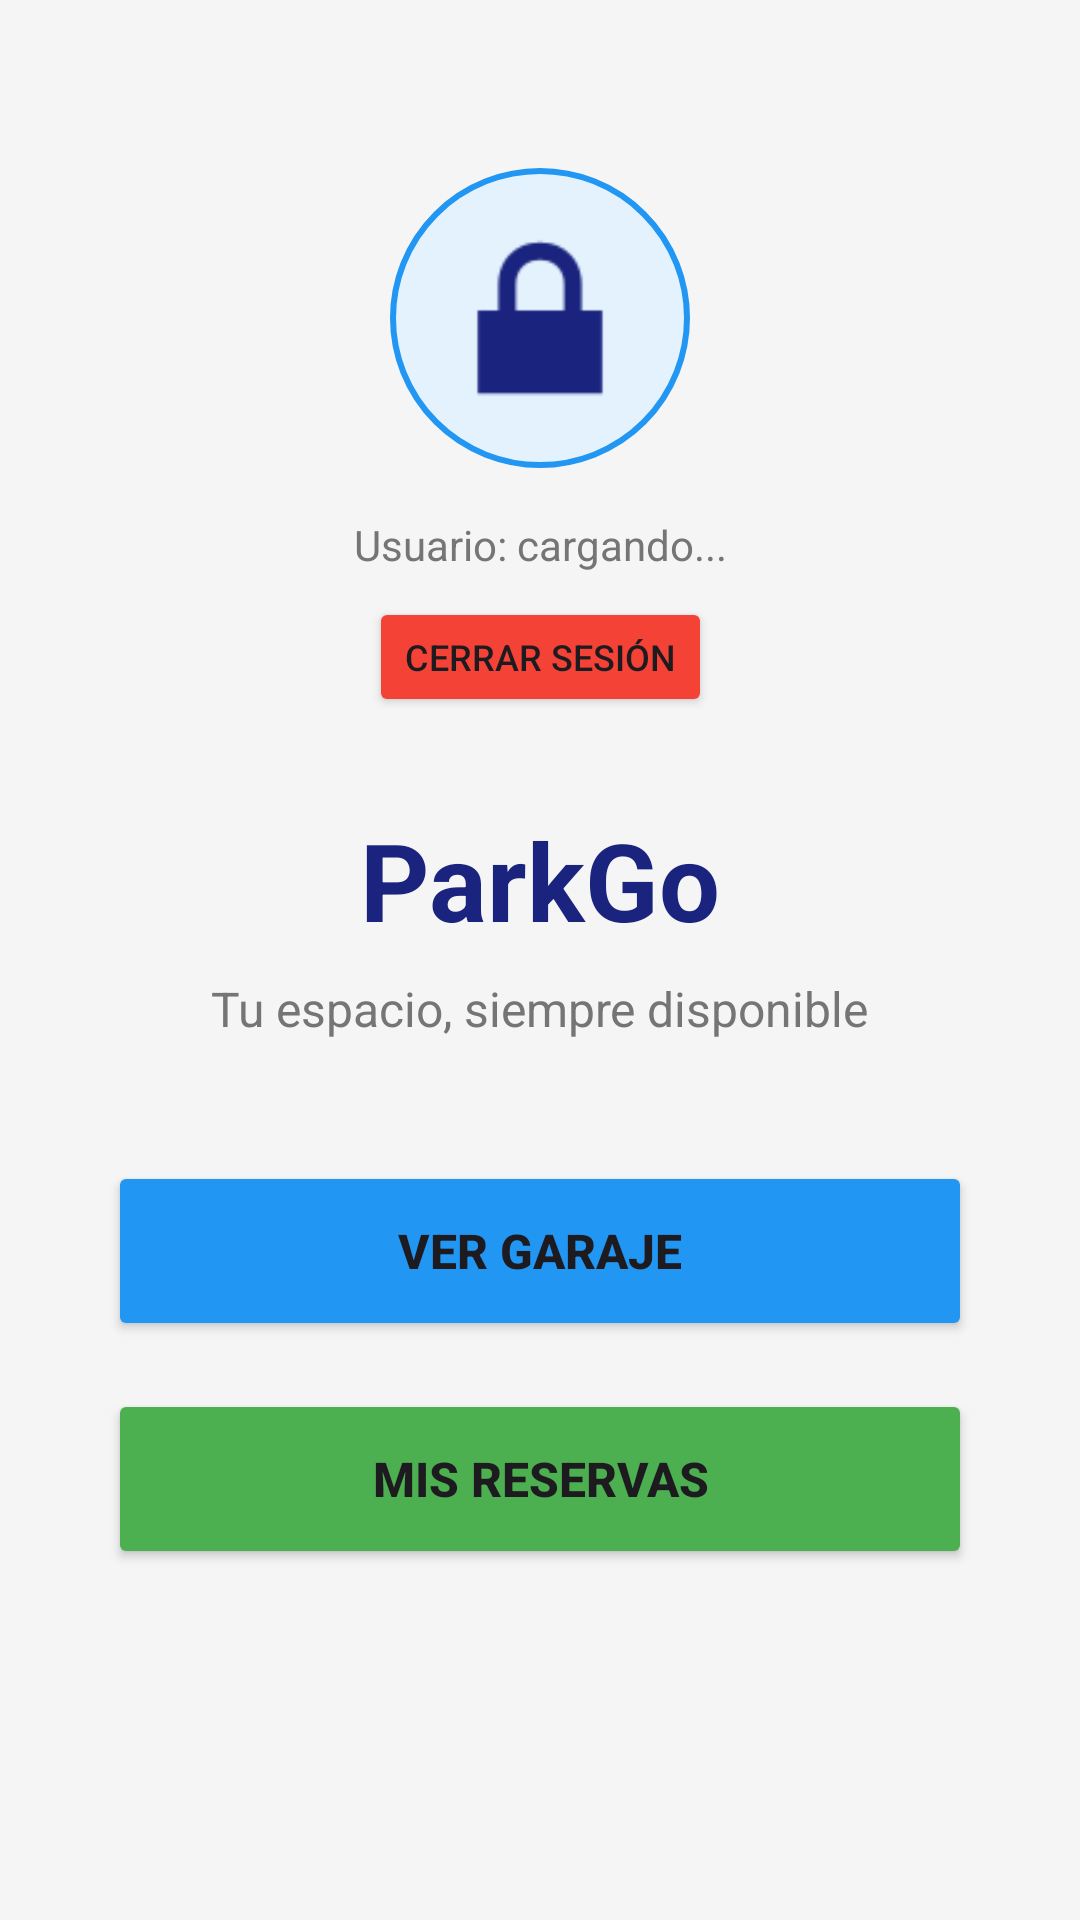

Screen size 1080px x 1920px. Icon name, then its box in pixels as Rect(x1, y1, x2, y2):
lock: Rect(390, 168, 690, 468)
